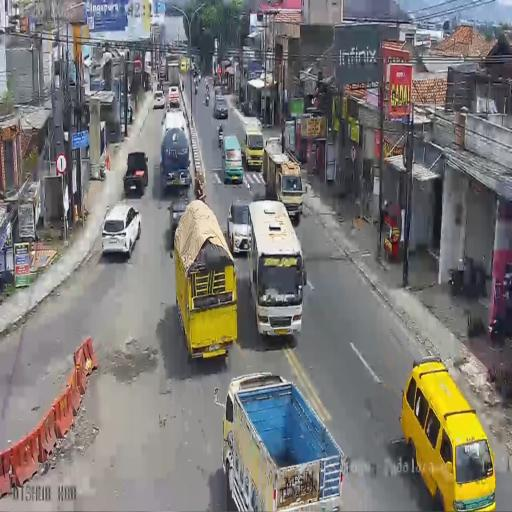car: (398, 355, 494, 508), (245, 202, 304, 336), (101, 202, 141, 258), (227, 196, 252, 256), (123, 152, 148, 196), (222, 135, 244, 184), (168, 198, 189, 243), (243, 128, 264, 169), (213, 92, 228, 118), (167, 85, 180, 108), (153, 90, 165, 109), (190, 63, 201, 83), (126, 97, 133, 123), (181, 58, 188, 72)
motorcycle: (194, 79, 198, 95)
truck: (221, 370, 344, 512), (171, 198, 236, 360), (262, 146, 304, 222), (160, 114, 190, 194), (166, 56, 182, 90)
